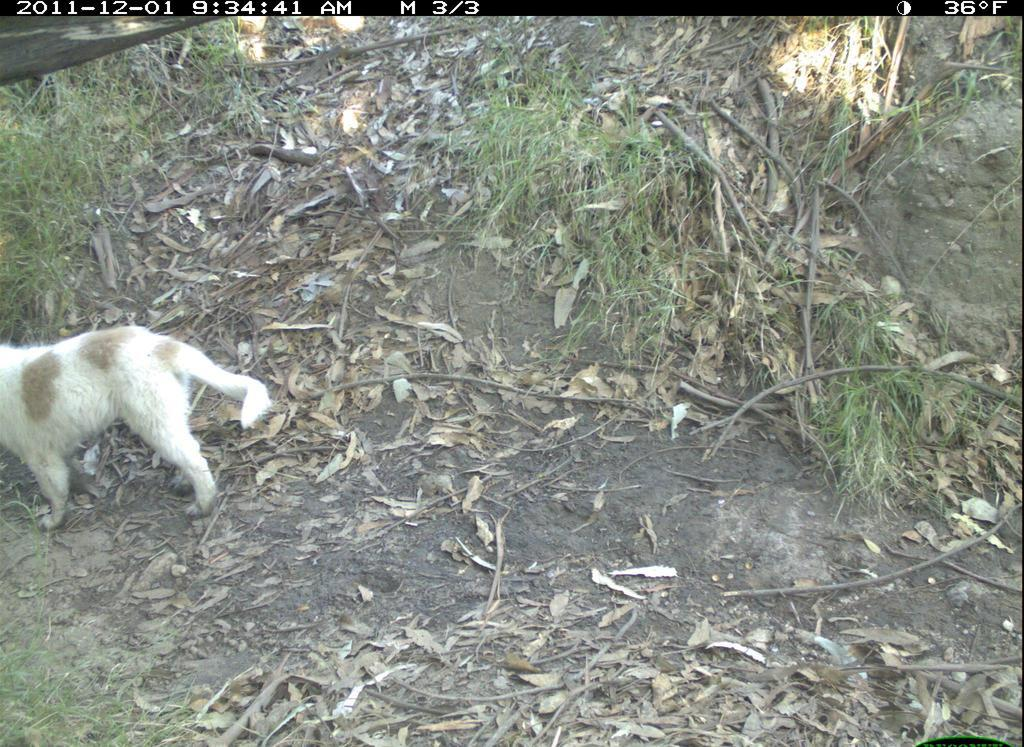dog: (1, 322, 283, 539)
